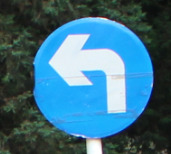left_turn: (33, 17, 153, 138)
